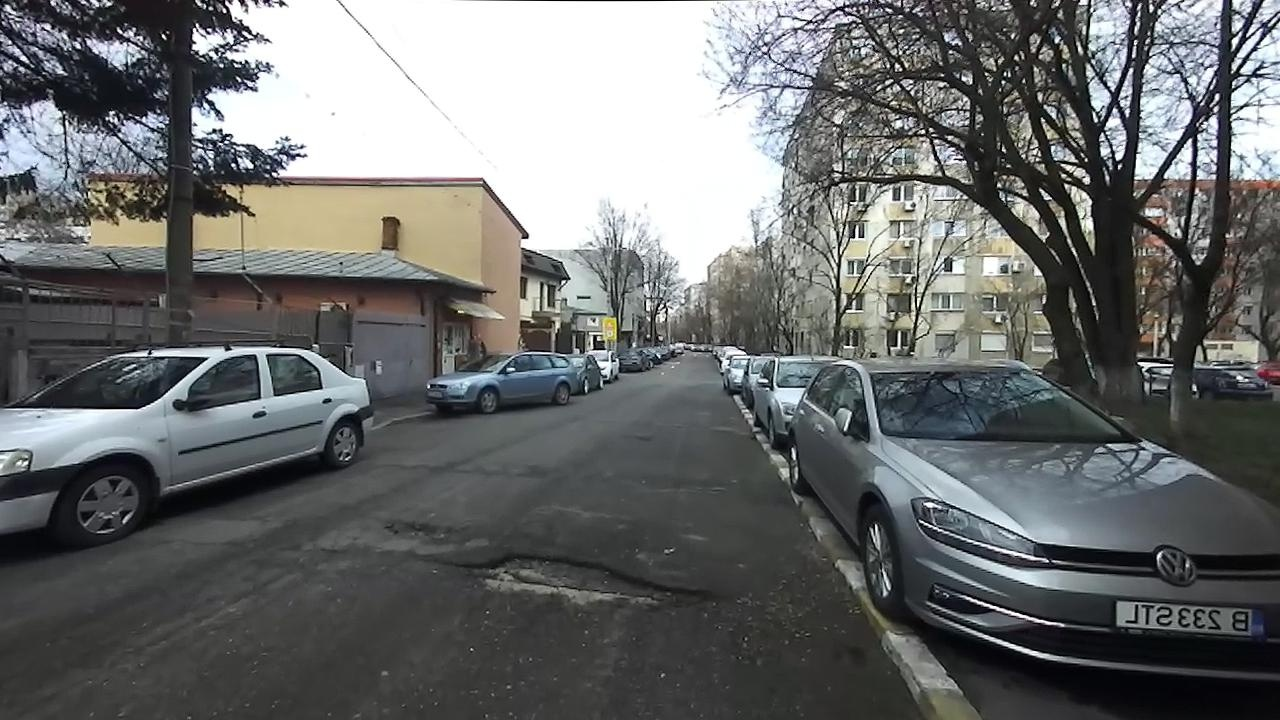pothole: (414, 546, 733, 616), (375, 515, 475, 543)
